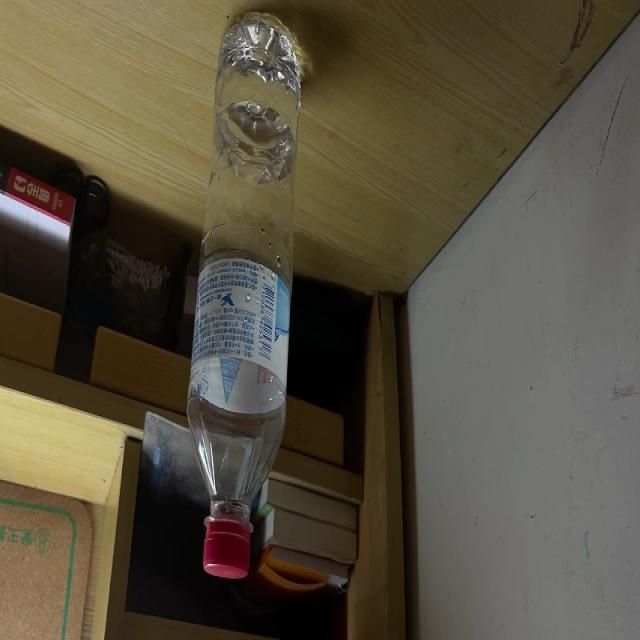Water: (186, 23, 301, 582)
